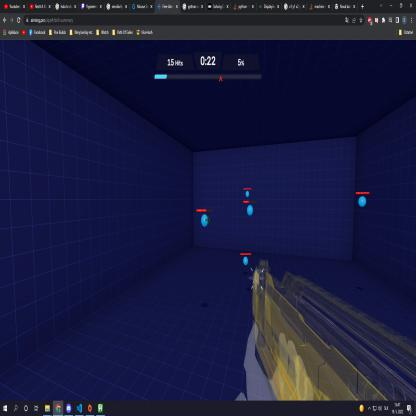sphere: (358, 196, 367, 208), (201, 214, 209, 227), (247, 204, 254, 216), (243, 256, 248, 266), (246, 191, 250, 198)
